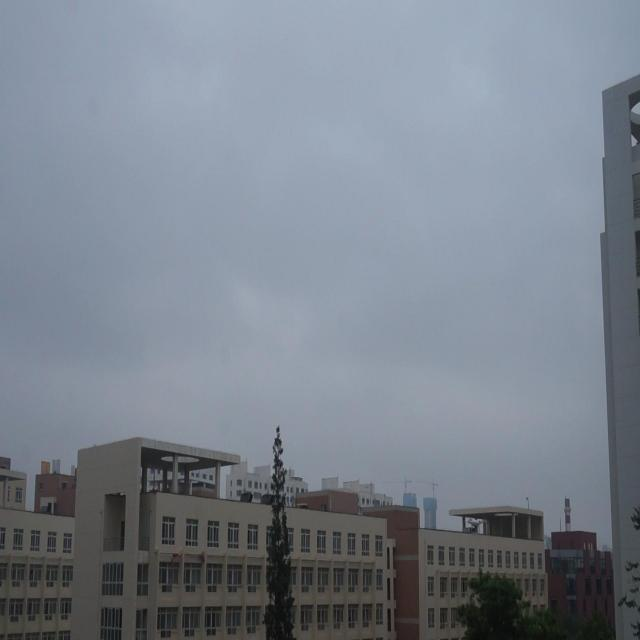UAV: (464, 518, 484, 534)
